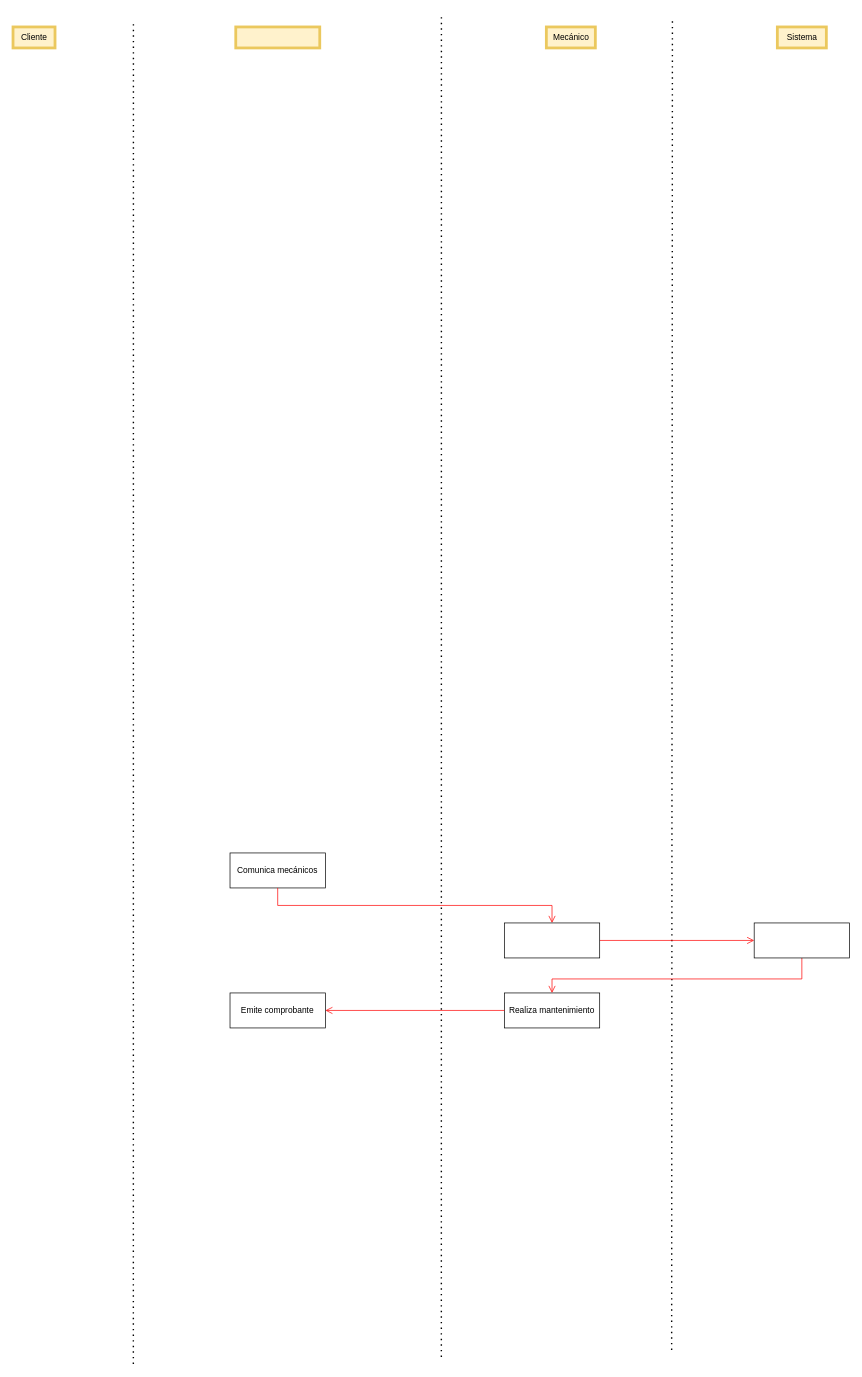
Some shapes in this 862 by 1377 pixel diagram are drawn without their labels. The box of each missing label's shape, as (x1, y1, x2, y2) in pixels:
Jefe de Mecánicos: (234, 25, 321, 49)
Muestra información de órdenes: (753, 922, 850, 958)
Revisa orden de trabajo: (504, 922, 600, 958)
